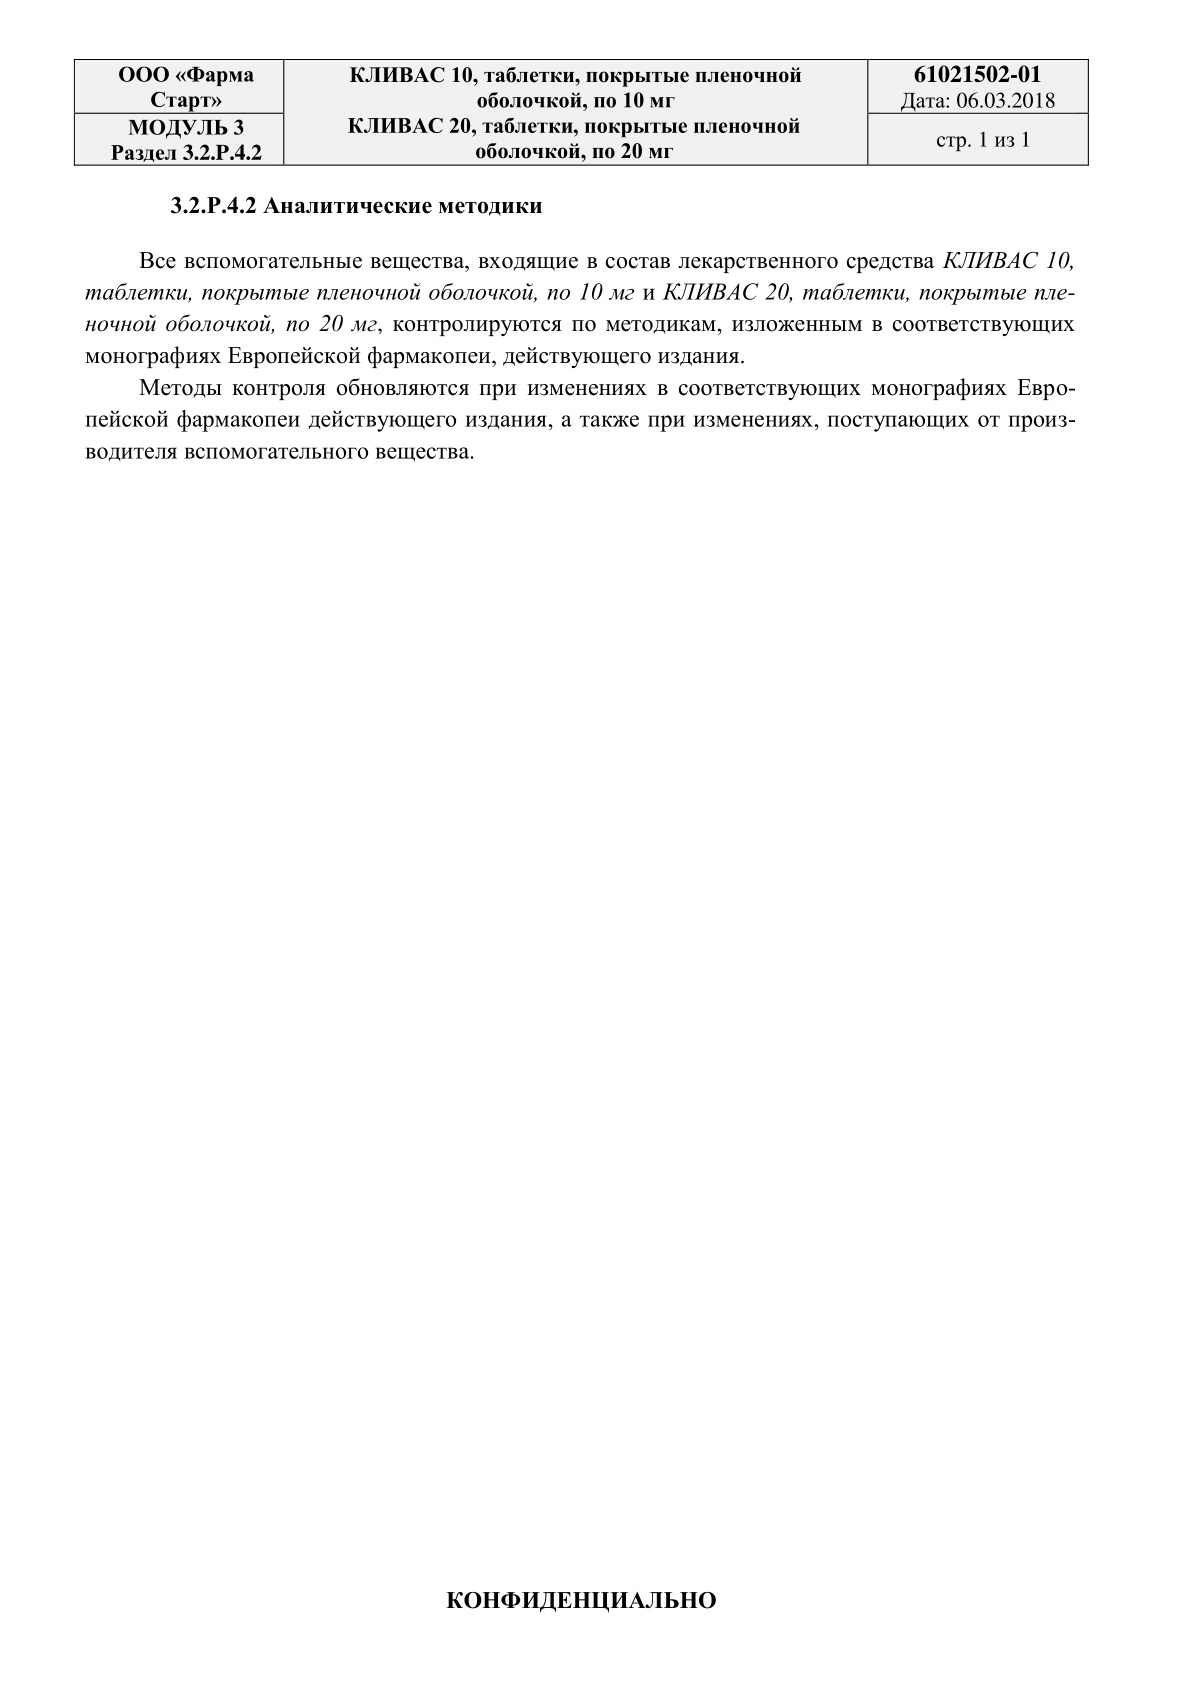merged_cells: (73, 58, 1090, 168)
